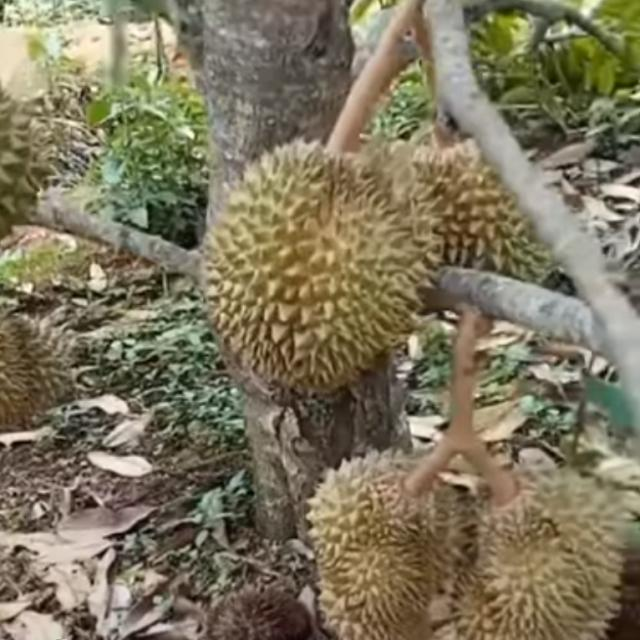mature: (202, 136, 430, 380), (455, 466, 637, 640), (309, 441, 448, 640)
